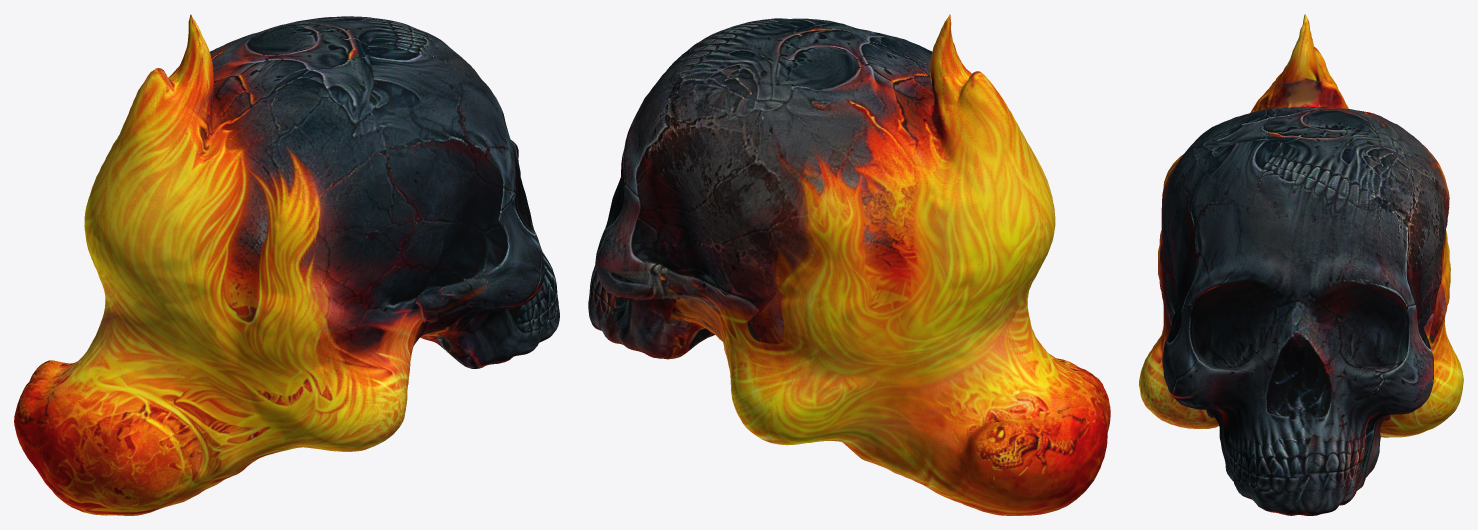
File: instantKill3.glb
3 views of the same model, side by side, from view 1: azimuth 30°, elevation 25°; view 2: azimuth 150°, elevation 25°; view 3: azimuth 270°, elevation 25° (orthographic). The views are drawn at different scales.
Size of the model in its own units: 1.2 by 1.08 by 0.743.
Materials: 1 (1 with a texture image).
